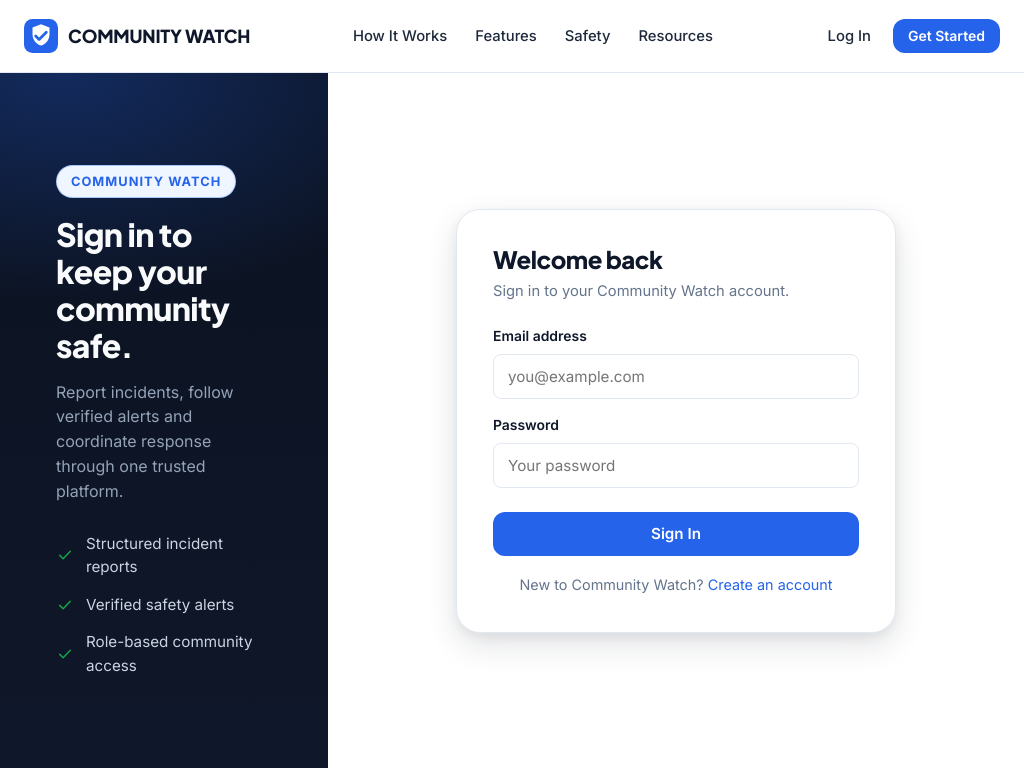
it: app smoke › shows the login error banner on invalid credentials
In the field labelled "Email address": {"x": 676, "y": 376} [493,354,859,399], type "ada@example.com"
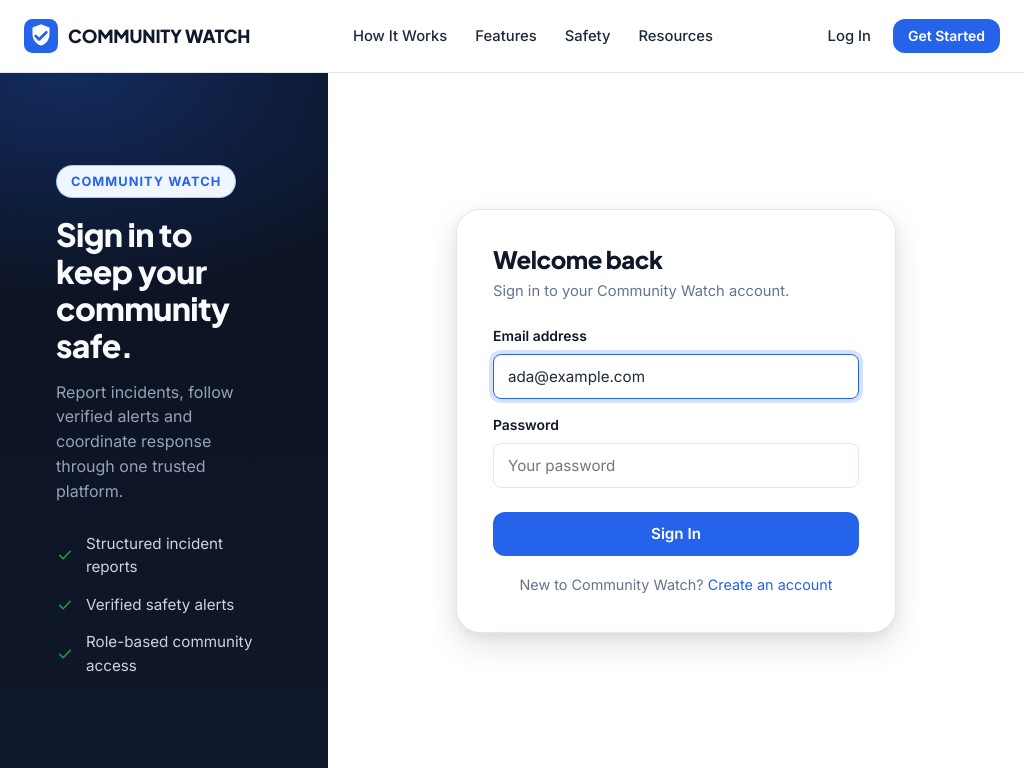
In the password field labelled "Password": {"x": 676, "y": 465} [493,442,859,488], type "wrong"
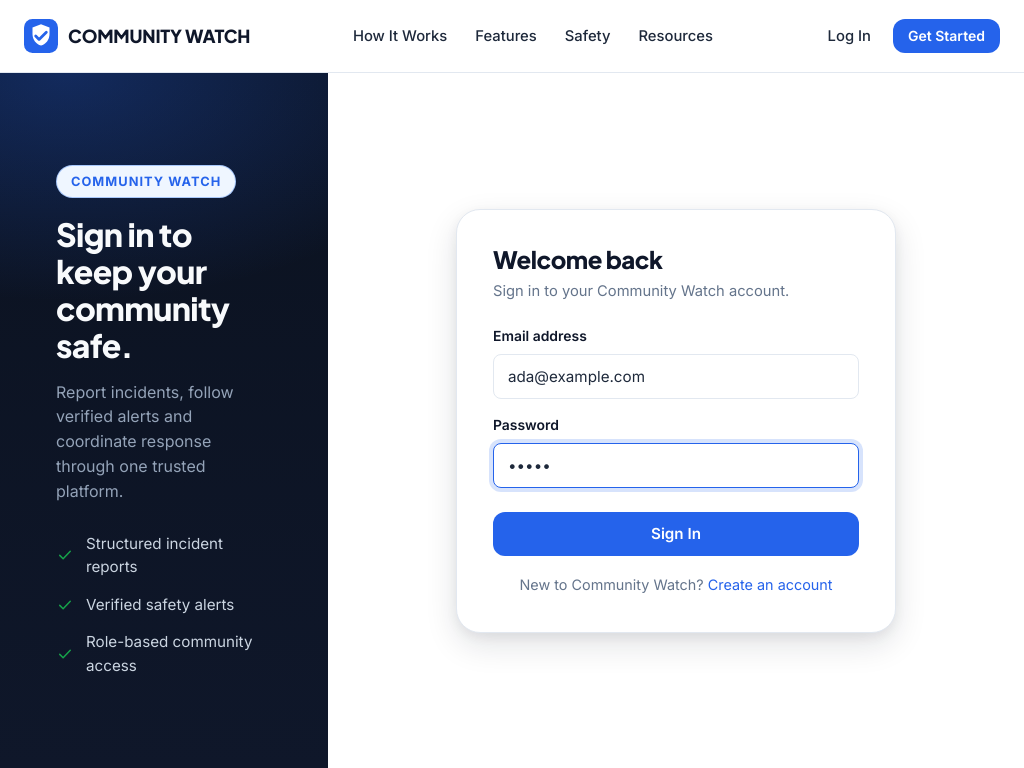
Click the button "Sign In": {"x": 676, "y": 534} [493,512,859,556]
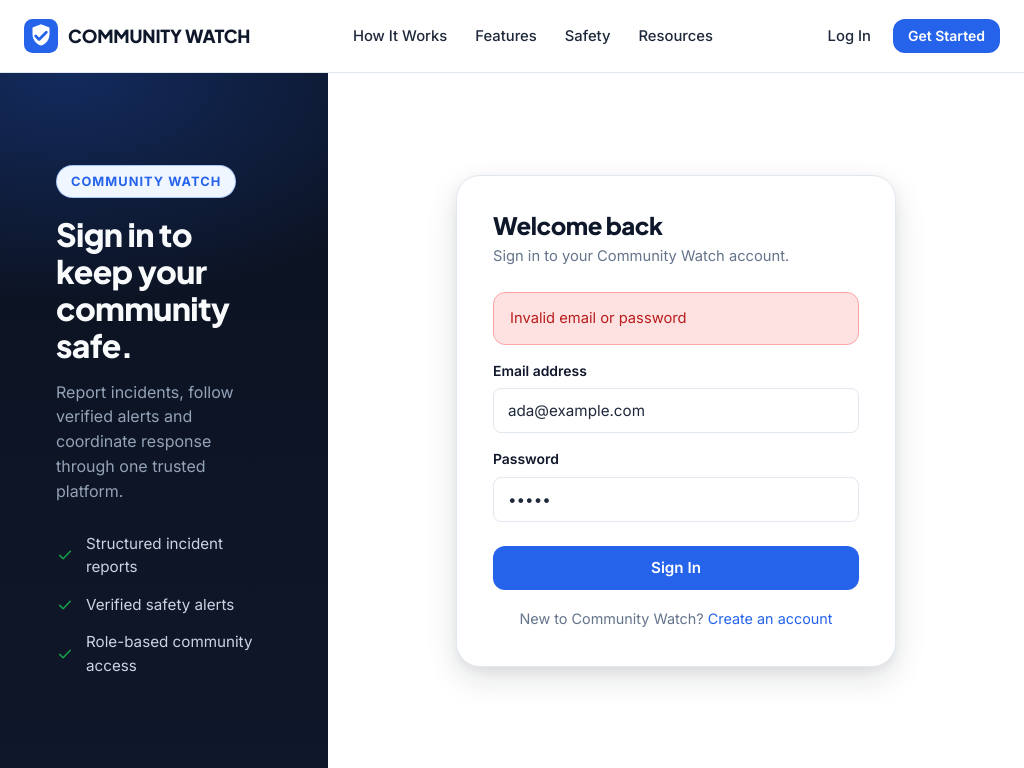
expect the text "Invalid email or password" is shown: met, box [493,292,859,345]
